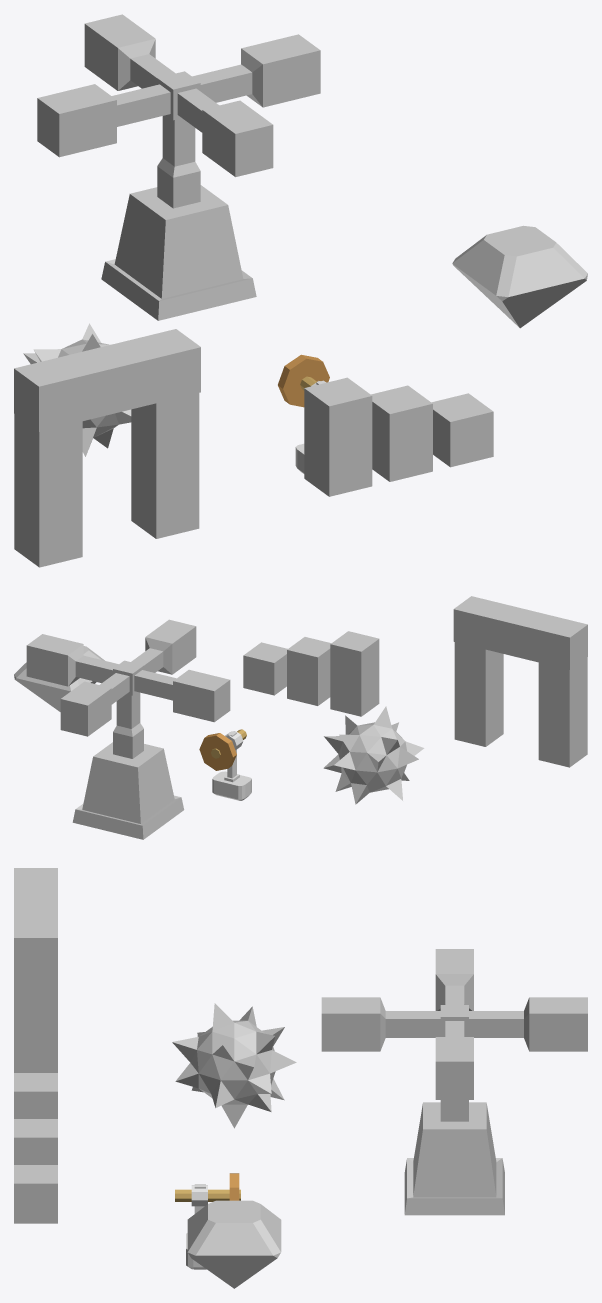
File: hurdle-1.fbx
3 renders of one model, top to bottom at view 1: azimuth 30°, elevation 25°; view 2: azimuth 150°, elevation 25°; view 3: azimuth 270°, elevation 25°, orthographic. The views are drawn at different scales.
Parts seen in each view (by area): view 1: Cube.009, Cube.006, Cube.007, Cube.005, Cube.004, diamond, Cube.003, Cube.002, Cube.008, Cube.001, Cube.010, Cylinder (+2 smaller); view 2: Cube.009, Cube.006, Cube.007, Cube.005, Cube.004, Cube.003, NAIL, Cube.002, Icosphere, Cube.008, Cube.001, Cube.010 (+3 smaller); view 3: Cube.009, Cube.007, diamond, Cube.006, Icosphere, Cube.004, NAIL, Cube.001, Cube.010, Cube.003, Cube.002, Cube.008.
Boxes of the visible parts, bbox=[...] form: Cube.009: bbox=[37, 14, 320, 177]; Cube.006: bbox=[14, 329, 200, 431]; Cube.007: bbox=[101, 185, 256, 320]; Cube.005: bbox=[14, 414, 82, 567]; Cube.004: bbox=[131, 393, 199, 538]; diamond: bbox=[452, 225, 587, 328]; Cube.003: bbox=[304, 377, 372, 496]; Cube.002: bbox=[371, 385, 432, 481]; Cube.008: bbox=[157, 71, 200, 208]; Cube.001: bbox=[431, 393, 493, 467]; Cube.010: bbox=[101, 259, 256, 318]; Cylinder: bbox=[278, 354, 329, 407]; Cube.009: bbox=[26, 619, 230, 736]; Cube.006: bbox=[453, 596, 587, 669]; Cube.007: bbox=[72, 742, 184, 839]; Cube.005: bbox=[538, 657, 587, 767]; Cube.004: bbox=[454, 642, 503, 746]; Cube.003: bbox=[330, 631, 379, 716]; NAIL: bbox=[338, 722, 406, 792]; Cube.002: bbox=[287, 637, 331, 705]; Icosphere: bbox=[323, 706, 424, 804]; Cube.008: bbox=[113, 660, 143, 758]; Cube.001: bbox=[243, 642, 287, 695]; Cube.010: bbox=[73, 795, 183, 838]; Cube.009: bbox=[321, 949, 587, 1099]; Cube.007: bbox=[404, 1102, 504, 1215]; diamond: bbox=[187, 1200, 281, 1288]; Cube.006: bbox=[14, 868, 57, 977]; Icosphere: bbox=[172, 1003, 296, 1128]; Cube.004: bbox=[14, 978, 57, 1072]; NAIL: bbox=[190, 1020, 275, 1104]; Cube.001: bbox=[14, 1165, 57, 1223]; Cube.010: bbox=[405, 1158, 504, 1213]; Cube.003: bbox=[14, 1073, 57, 1118]; Cube.002: bbox=[14, 1119, 57, 1164]; Cube.008: bbox=[440, 1005, 468, 1121].
Size of the model in its own units: 1507 by 641 by 1302.
